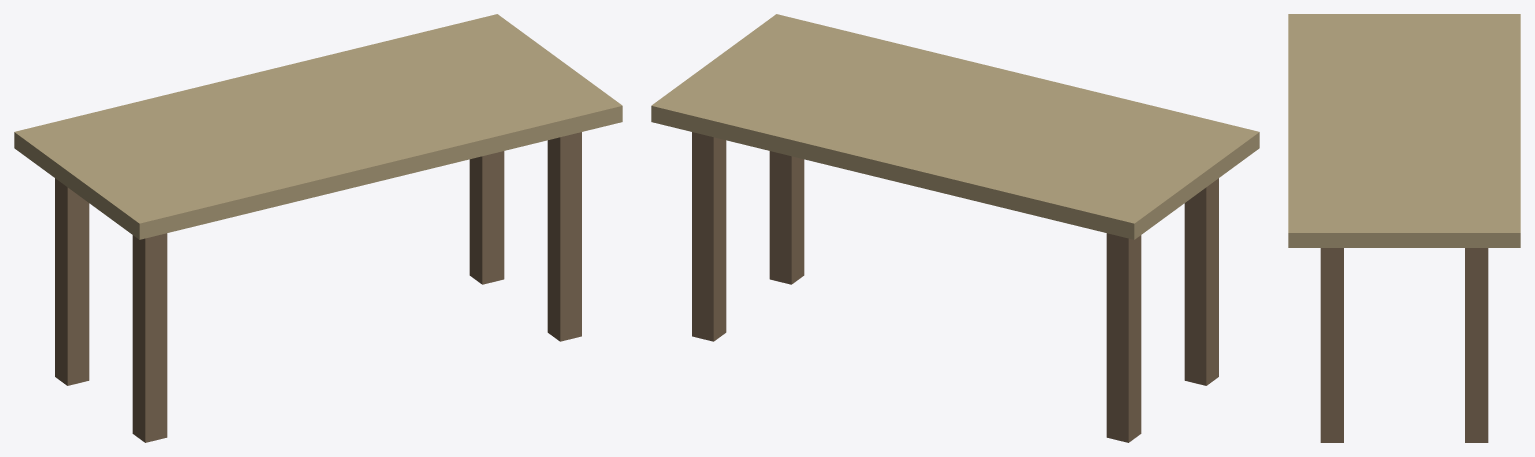
File: Table_Small.fbx
3 views of the same model, side by side, from view 1: azimuth 30°, elevation 25°; view 2: azimuth 150°, elevation 25°; view 3: azimuth 270°, elevation 25° (orthographic). The views are drawn at different scales.
Visible parts, largest first — view 1: Table.002; view 2: Table.002; view 3: Table.002.
Boxes of the visible parts, x1=… form: Table.002: x1=14, y1=14, x2=622, y2=442; Table.002: x1=651, y1=14, x2=1259, y2=442; Table.002: x1=1288, y1=14, x2=1520, y2=442.
Size of the model in its own units: 152 by 71.54 by 68.36.
